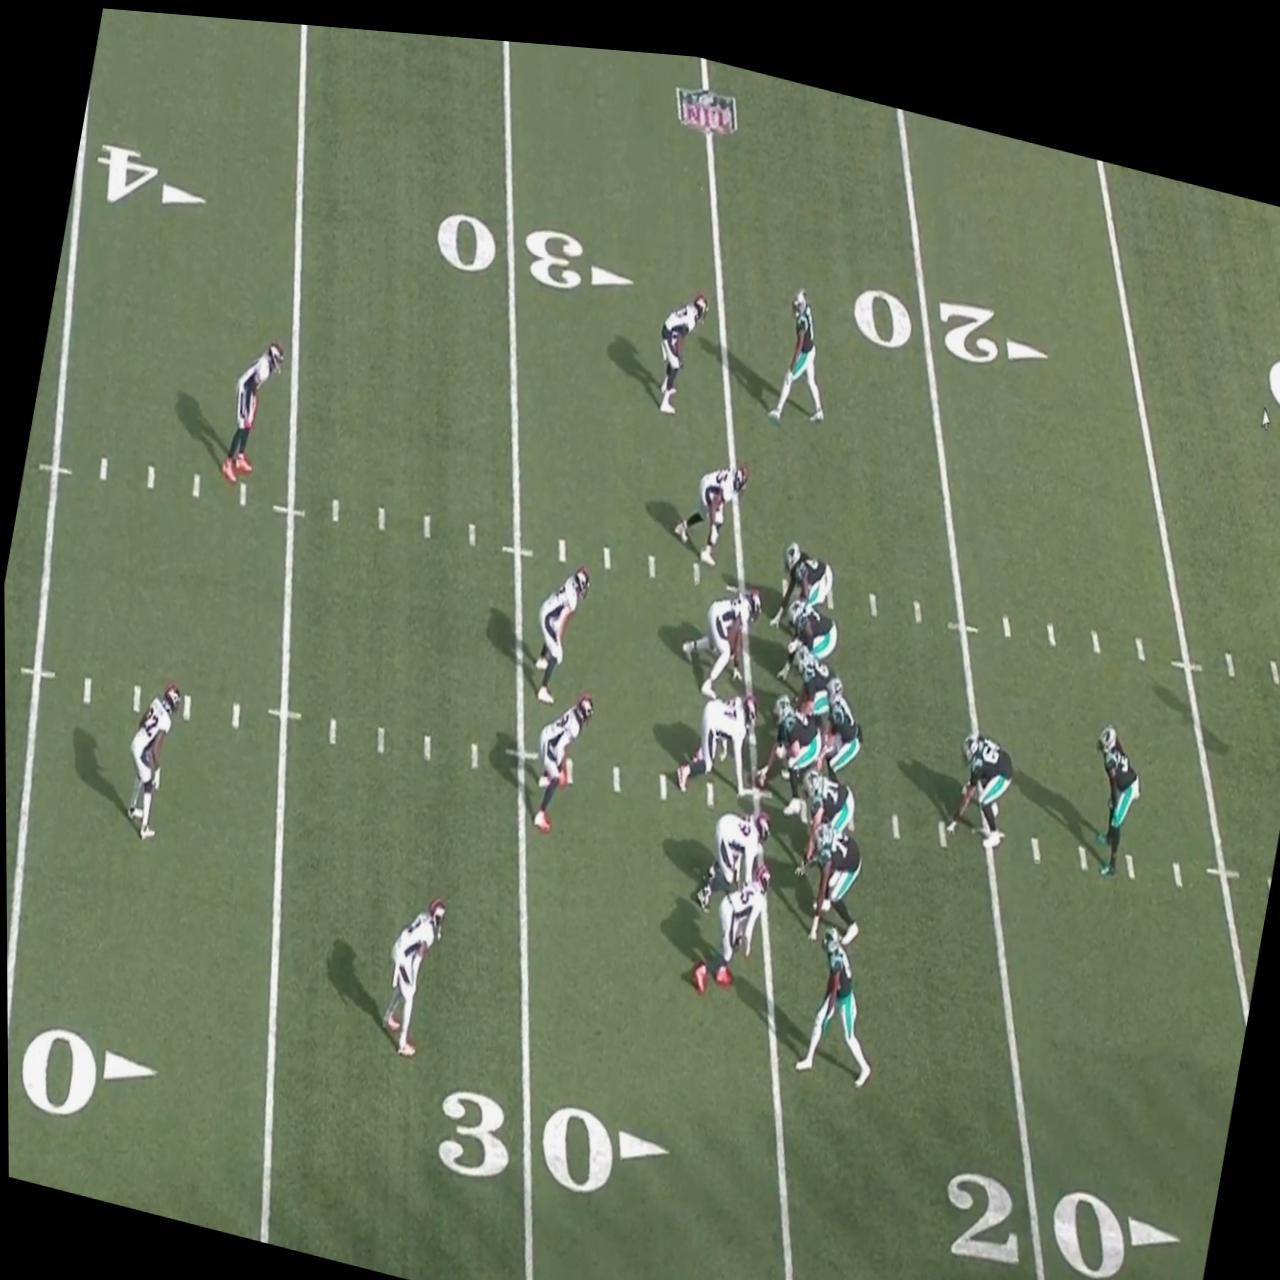10R: (1260, 324, 1280, 403)
20R: (932, 1138, 1185, 1280), (847, 256, 1058, 373)
30R: (429, 1064, 673, 1217), (429, 193, 639, 304)
40R: (6, 1001, 162, 1153), (70, 132, 213, 227)
